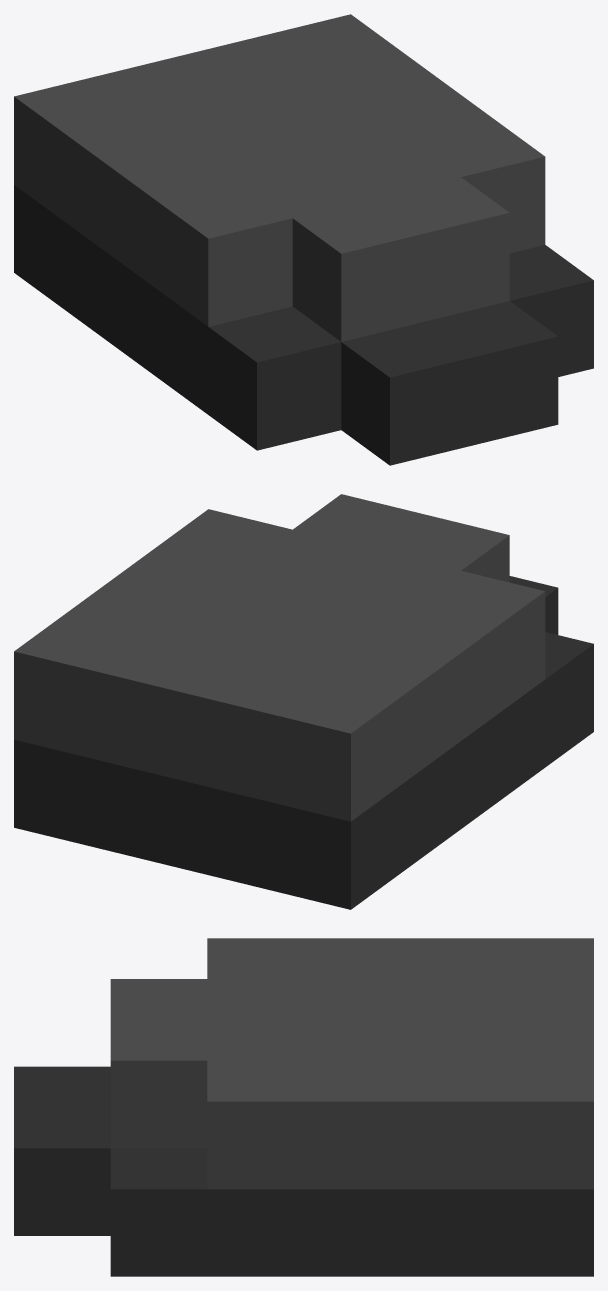
The model's file is LeftBoot.obj.
3 views of the same model, one above another, from view 1: azimuth 30°, elevation 25°; view 2: azimuth 150°, elevation 25°; view 3: azimuth 270°, elevation 25° (orthographic).
Parts seen in each view (by area): view 1: LeftBoot; view 2: LeftBoot; view 3: LeftBoot.
Part boxes in pixels (bbox=[...]): LeftBoot: bbox=[14, 14, 593, 465]; LeftBoot: bbox=[14, 494, 593, 909]; LeftBoot: bbox=[14, 938, 593, 1276].
Bounding box in the file's own units: 4 × 2 × 6.
Materials: 1 (1 with a texture image).
